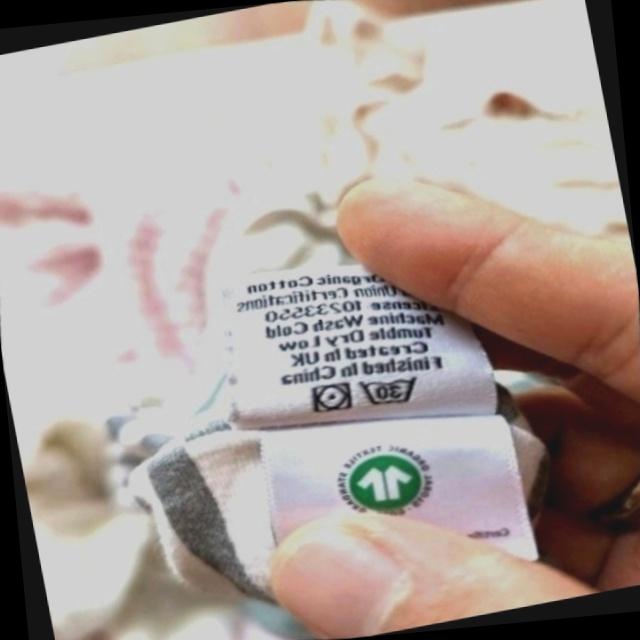30C: (351, 363, 429, 419)
tumble_dry_low: (303, 373, 360, 423)
